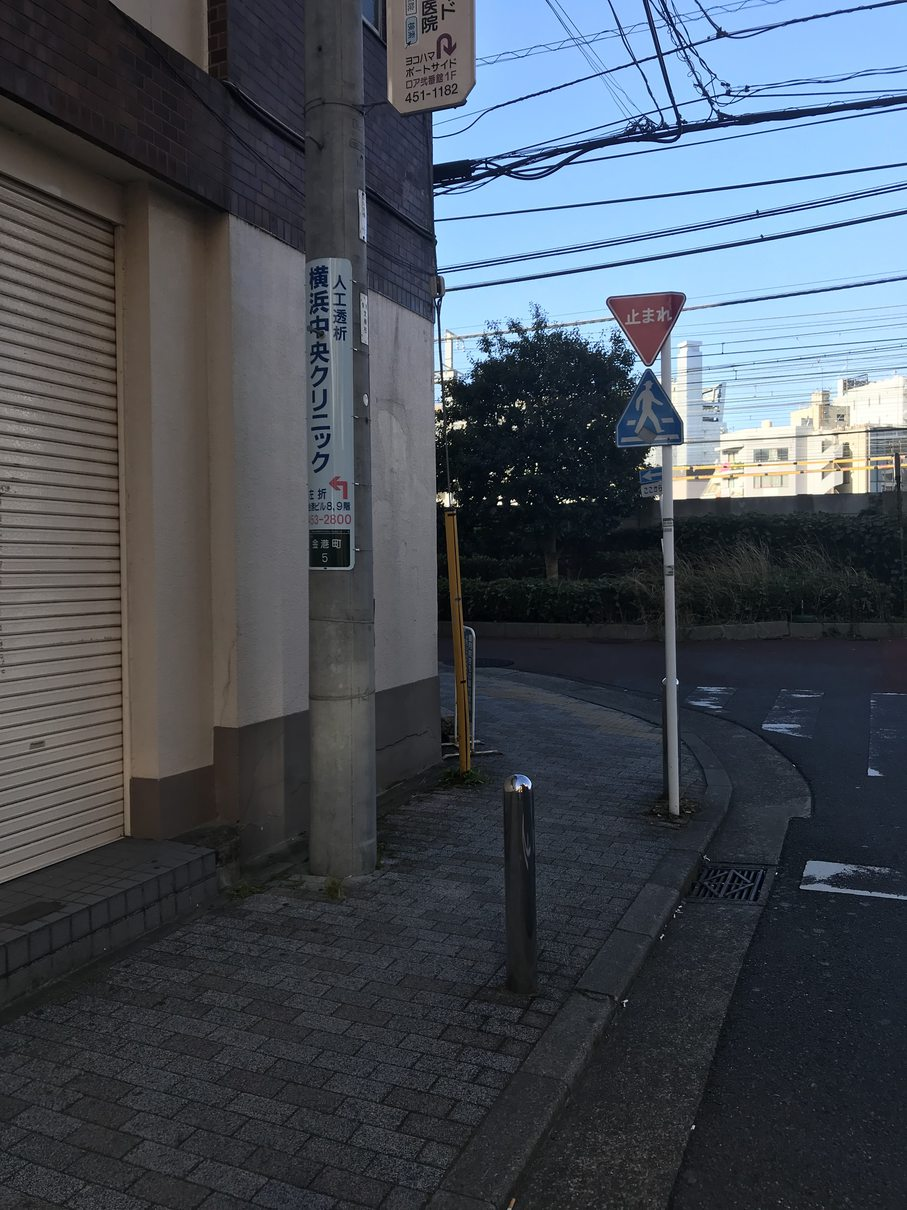stop_sign: (603, 291, 686, 367)
